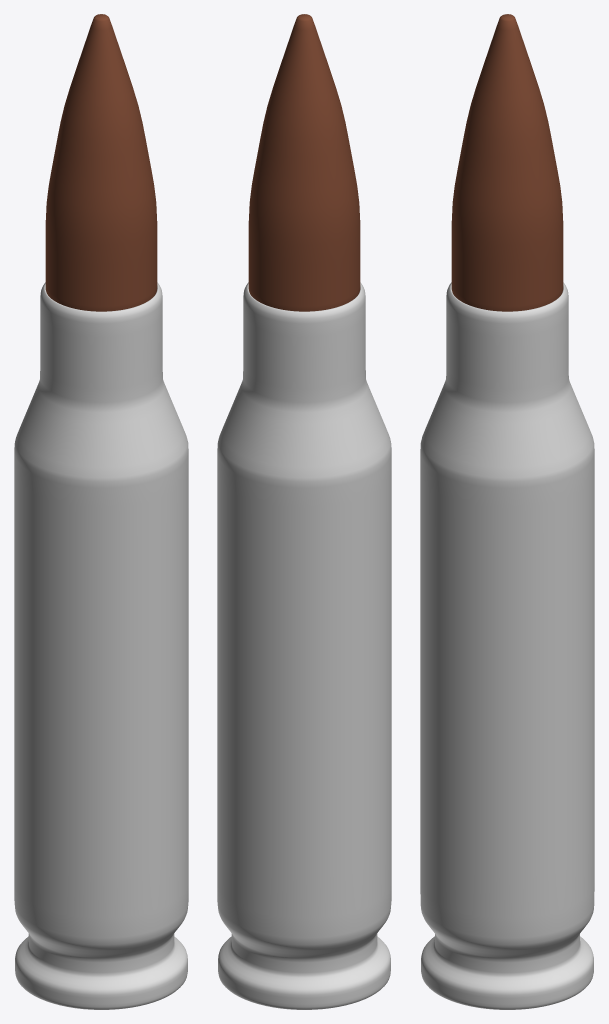
The model's file is Gun bullet.glb.
3 views of the same model, side by side, from view 1: azimuth 30°, elevation 25°; view 2: azimuth 150°, elevation 25°; view 3: azimuth 270°, elevation 25° (orthographic).
Parts seen in each view (by area): view 1: Bullet; view 2: Bullet; view 3: Bullet.
Boxes of the visible parts, <box> form: Bullet: <box>14,14,188,1009</box>; Bullet: <box>217,14,391,1009</box>; Bullet: <box>420,14,594,1009</box>.
Bounding box in the file's own units: 0.1741 × 1.06 × 0.1741.
